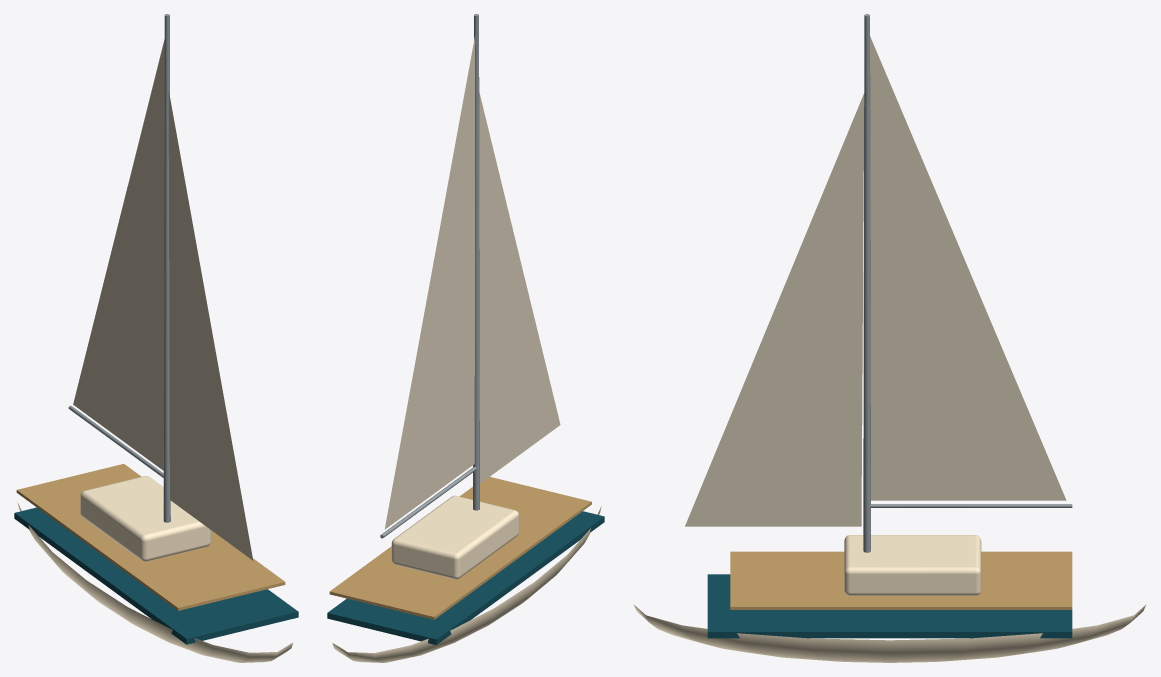
Rendered from sailboat.glb.
The picture shows the model from 3 angles, left to right: view 1: azimuth 30°, elevation 25°; view 2: azimuth 150°, elevation 25°; view 3: azimuth 270°, elevation 25°; orthographic projection. The views are drawn at different scales.
Visible parts, largest first — view 1: boat sail, boat deck, boat hull, boat band, boat spar; view 2: boat sail, boat deck, boat hull, boat band, boat spar; view 3: boat sail, boat hull, boat deck, boat band, boat spar.
Part boxes in pixels (x1,y1,x2,y2): boat sail: [73, 39, 253, 560]; boat deck: [16, 464, 285, 610]; boat hull: [17, 476, 292, 662]; boat band: [14, 507, 298, 644]; boat spar: [68, 14, 170, 522]; boat sail: [384, 35, 560, 529]; boat deck: [329, 477, 591, 619]; boat hull: [332, 495, 601, 662]; boat band: [327, 511, 604, 644]; boat spar: [380, 14, 479, 538]; boat sail: [685, 36, 1066, 526]; boat hull: [633, 535, 1146, 662]; boat deck: [730, 551, 1072, 609]; boat band: [707, 574, 1072, 638]; boat spar: [863, 14, 1072, 552].
Size of the model in its own units: 3 by 12.3 by 9.
